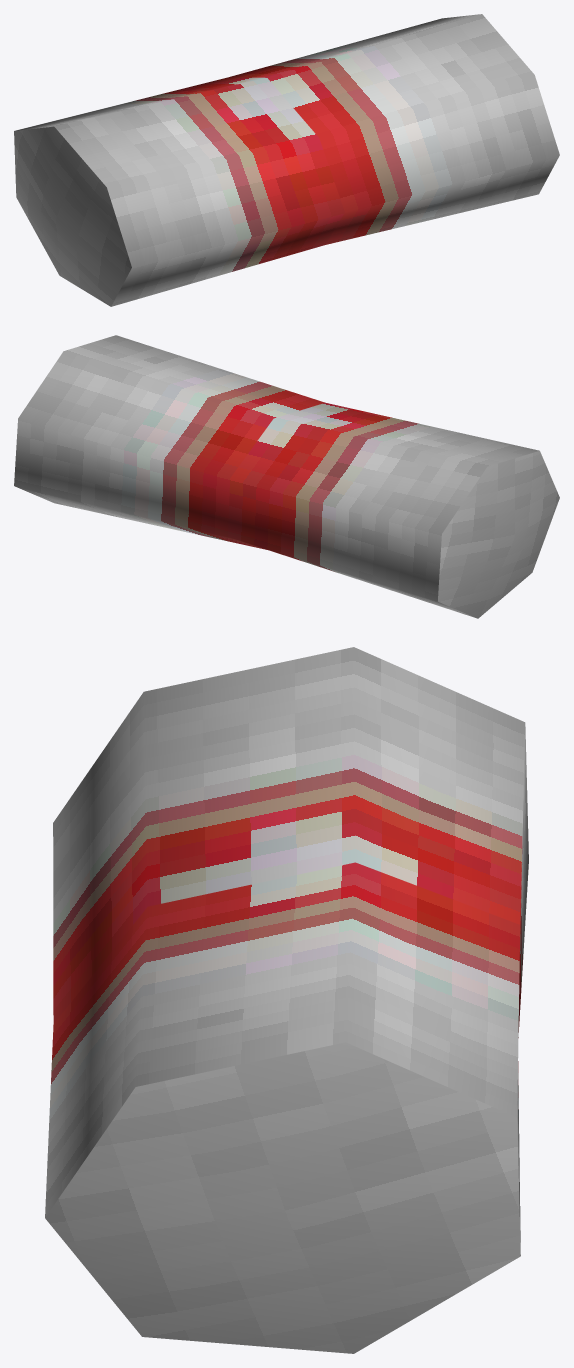
Rendered from bandage.obj.
The picture shows the model from 3 angles, top to bottom: view 1: azimuth 30°, elevation 25°; view 2: azimuth 150°, elevation 25°; view 3: azimuth 270°, elevation 25°; orthographic projection. The views are drawn at different scales.
Visible parts, largest first — view 1: Cylinder02; view 2: Cylinder02; view 3: Cylinder02.
Boxes of the visible parts, x1=… form: Cylinder02: x1=14, y1=14, x2=559, y2=306; Cylinder02: x1=14, y1=335, x2=559, y2=618; Cylinder02: x1=45, y1=647, x2=528, y2=1353.
Size of the model in its own units: 13.19 by 4.46 by 6.03.
